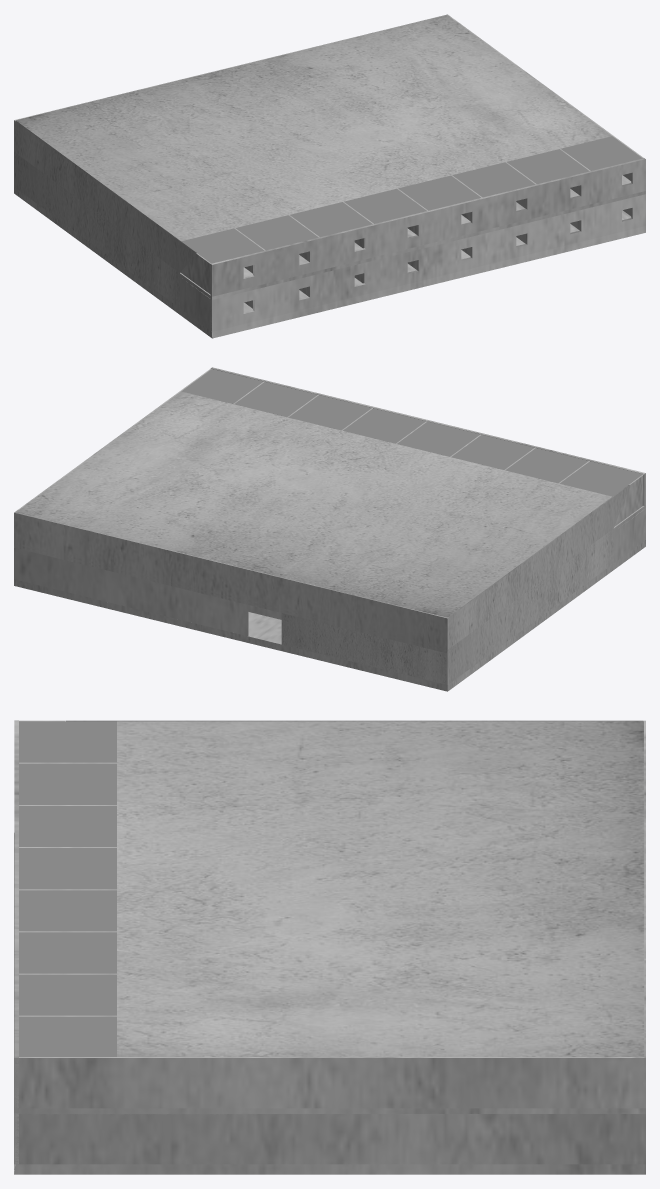
Rendered from zid.fbx.
3 renders of one model, top to bottom at view 1: azimuth 30°, elevation 25°; view 2: azimuth 150°, elevation 25°; view 3: azimuth 270°, elevation 25°, orthographic. The views are drawn at different scales.
Visible parts, largest first — view 1: Plane.002; view 2: Plane.002; view 3: Plane.002.
Boxes of the visible parts, x1,y1,x2,y2 form: Plane.002: (14,14,645,338); Plane.002: (14,367,645,691); Plane.002: (14,720,645,1174).
Bounding box in the file's own units: 2732 × 443 × 2163.
